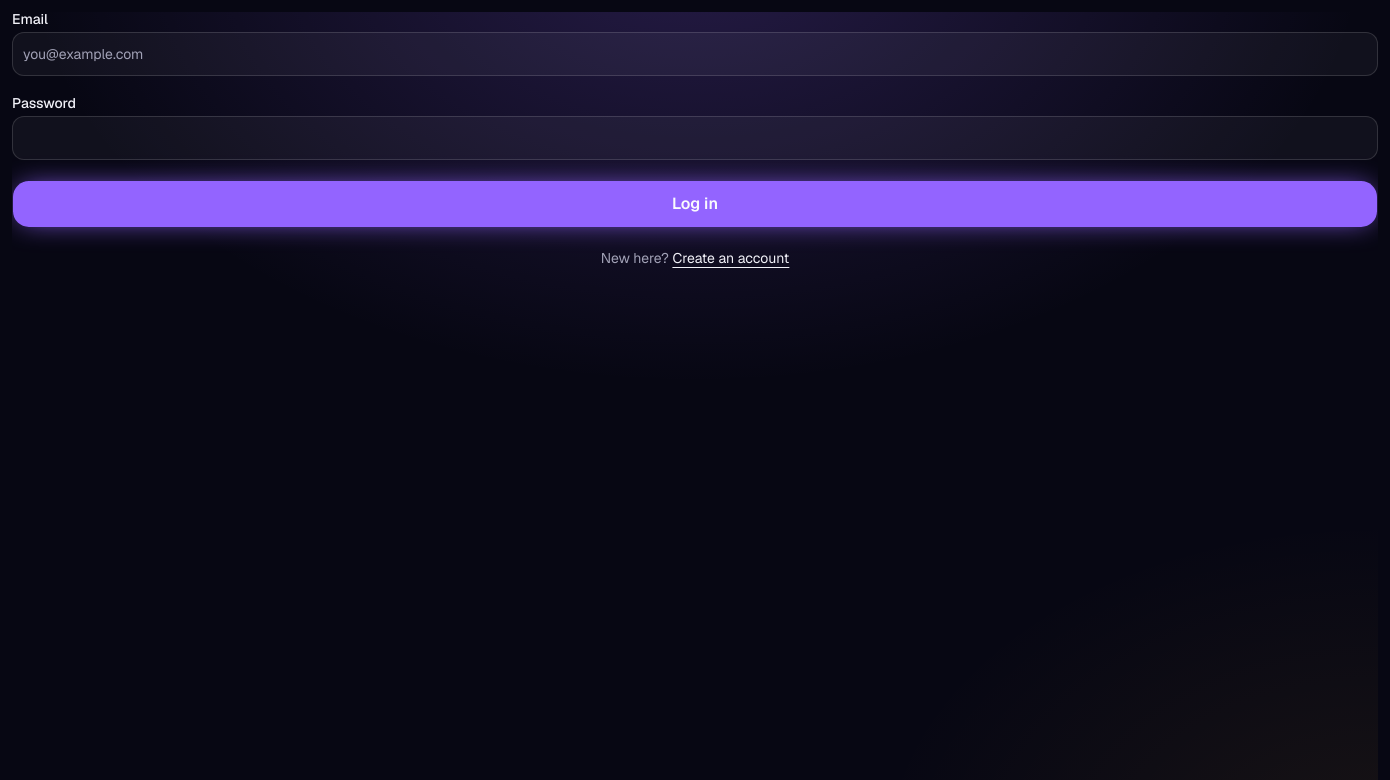
Test: LoginForm › shows the server's message for a wrong password
The width and height of the screenshot is (1390, 780).
In the field labelled "Email": (695, 54) [12, 32, 1378, 76], type "anna@example.com"
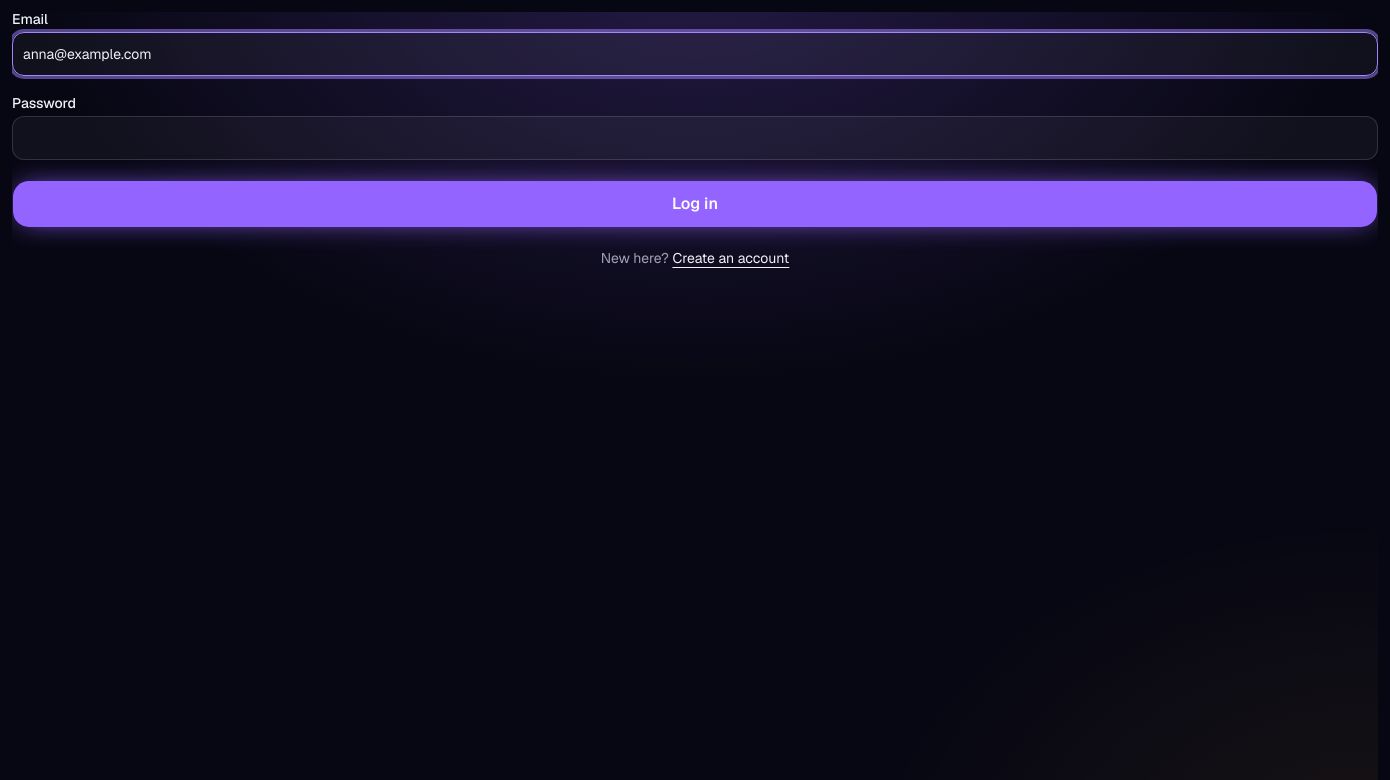
In the password field labelled "Password": (695, 138) [12, 116, 1378, 160], type "a long password"
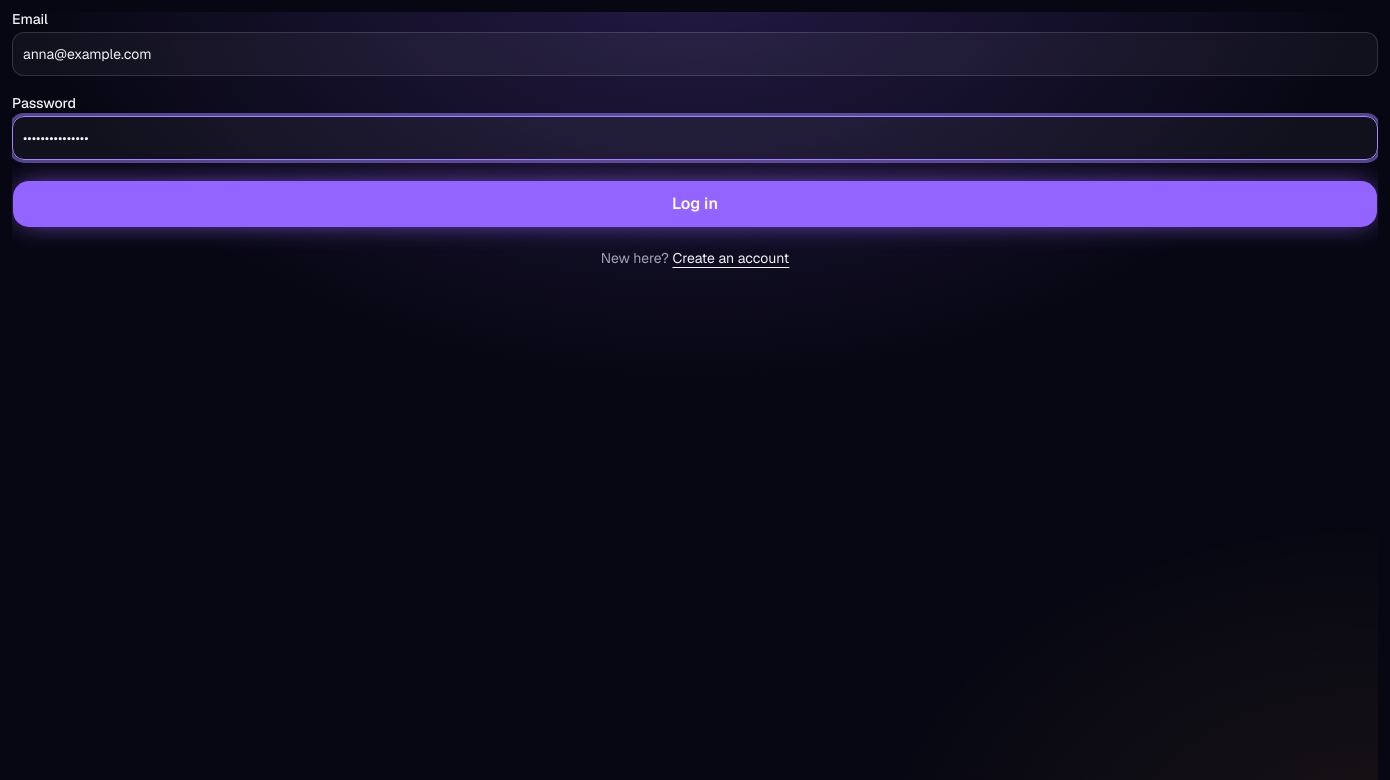
Click the button "Log in": (695, 204) [12, 180, 1378, 228]
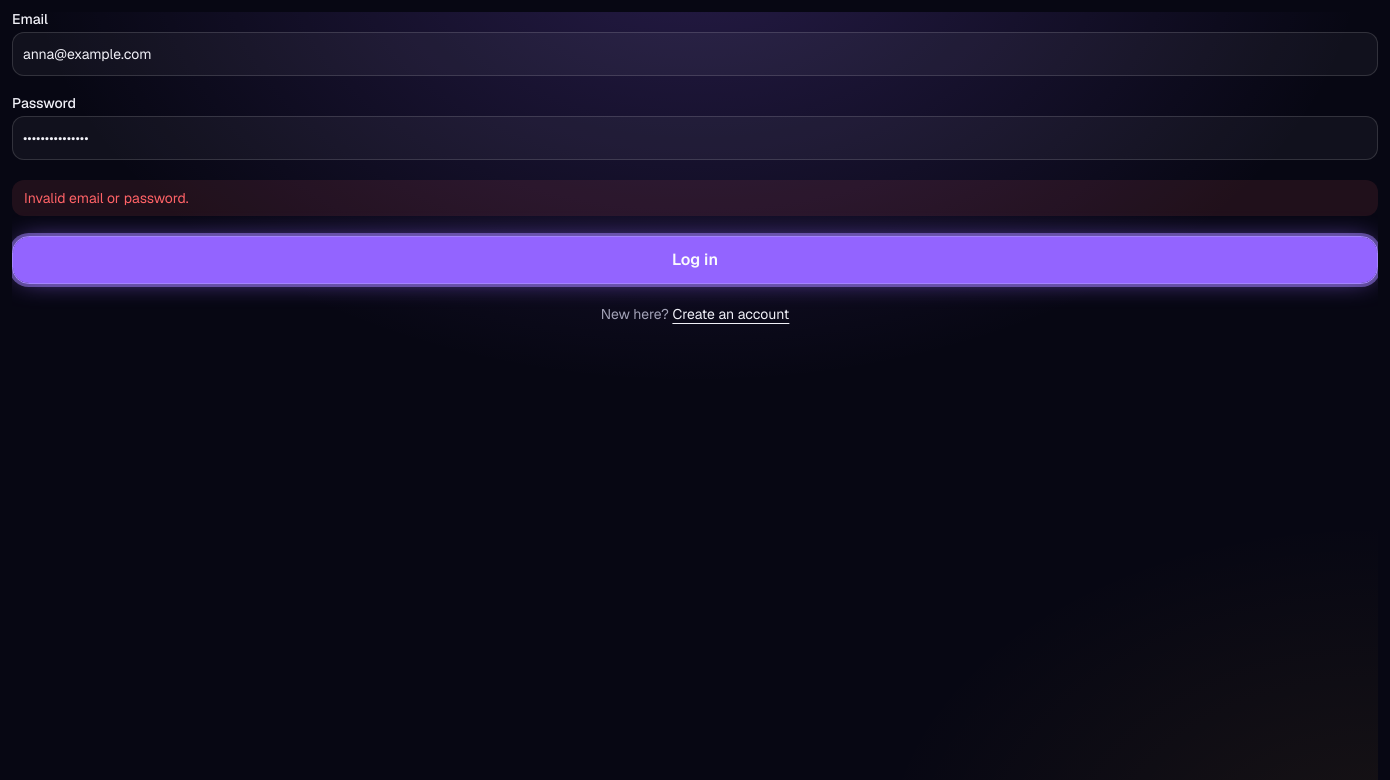
Now the message reads "Invalid email or password.", box [24, 189, 189, 207]
